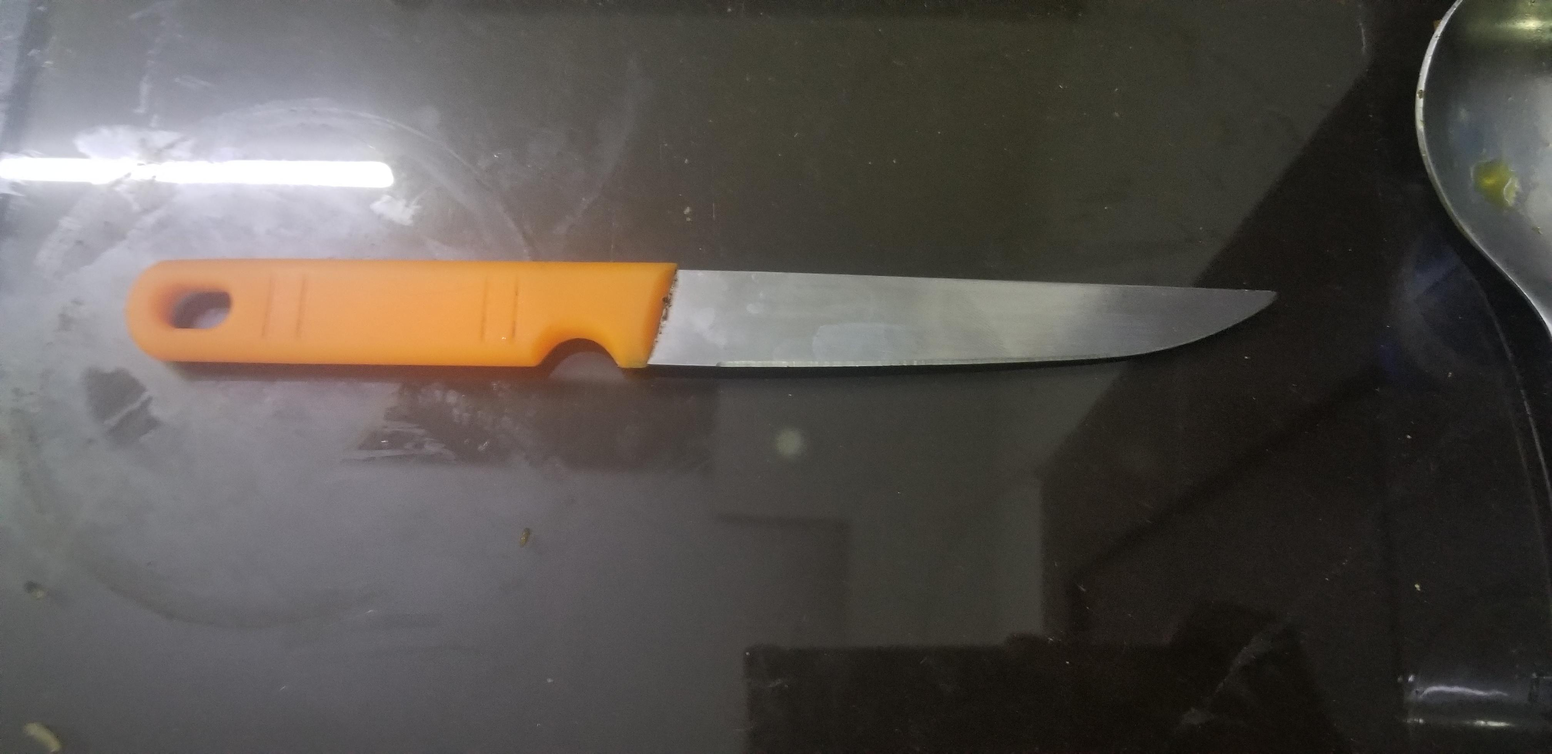knives: (737, 62, 1055, 621)
